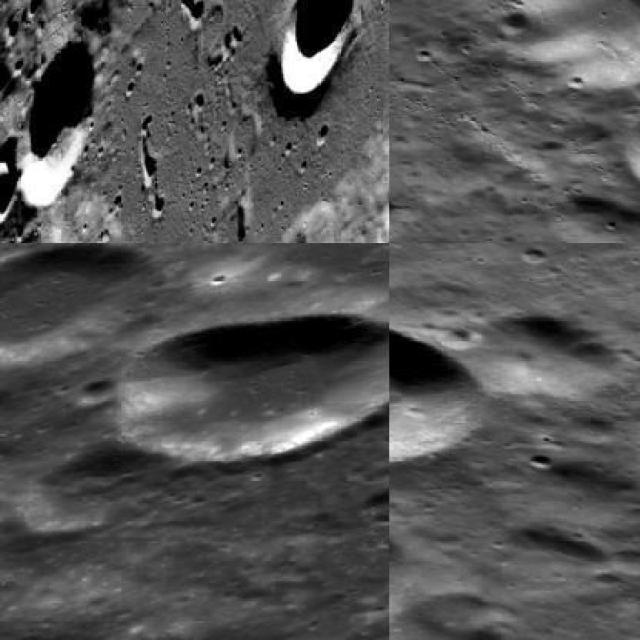crater: (115, 314, 388, 463), (0, 243, 160, 368), (389, 322, 483, 468), (463, 314, 615, 400), (498, 0, 638, 91), (22, 40, 98, 206), (281, 0, 360, 95)
